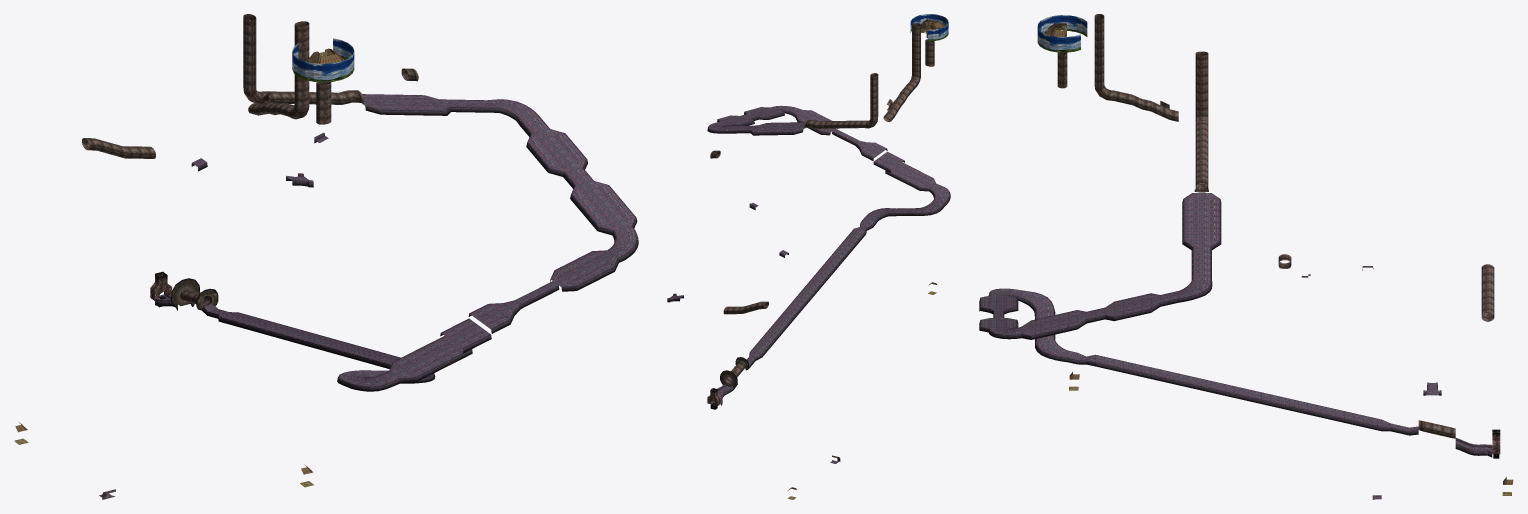
3 renders of one model, left to right at view 1: azimuth 30°, elevation 25°; view 2: azimuth 150°, elevation 25°; view 3: azimuth 270°, elevation 25°, orthographic. The views are drawn at different scales.
Size of the model in its own units: 144 by 236 by 232.
